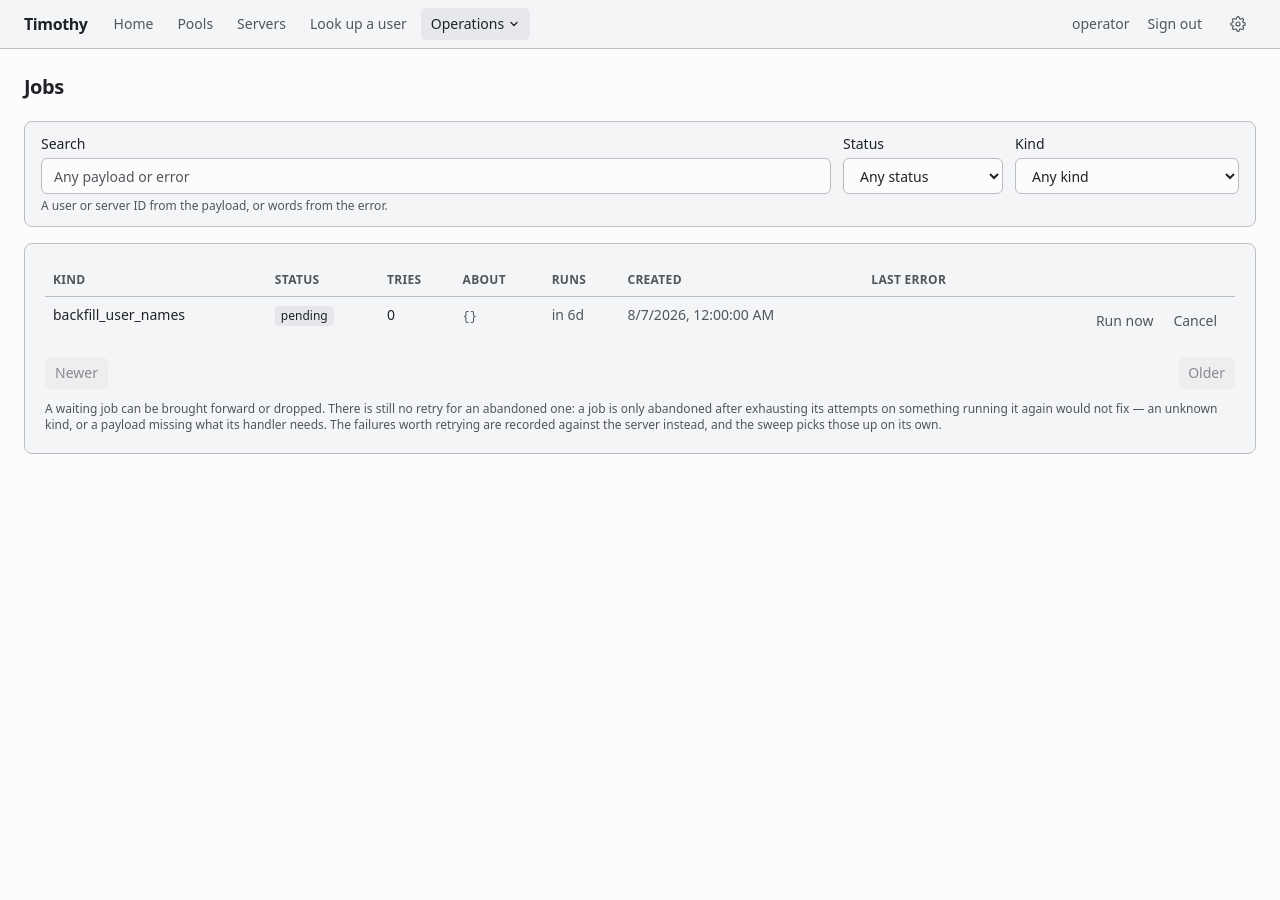
acting on a queued job › asks before dropping one
Click the button "Cancel": (1195, 321) top-left (1163, 305), bottom-right (1227, 337)
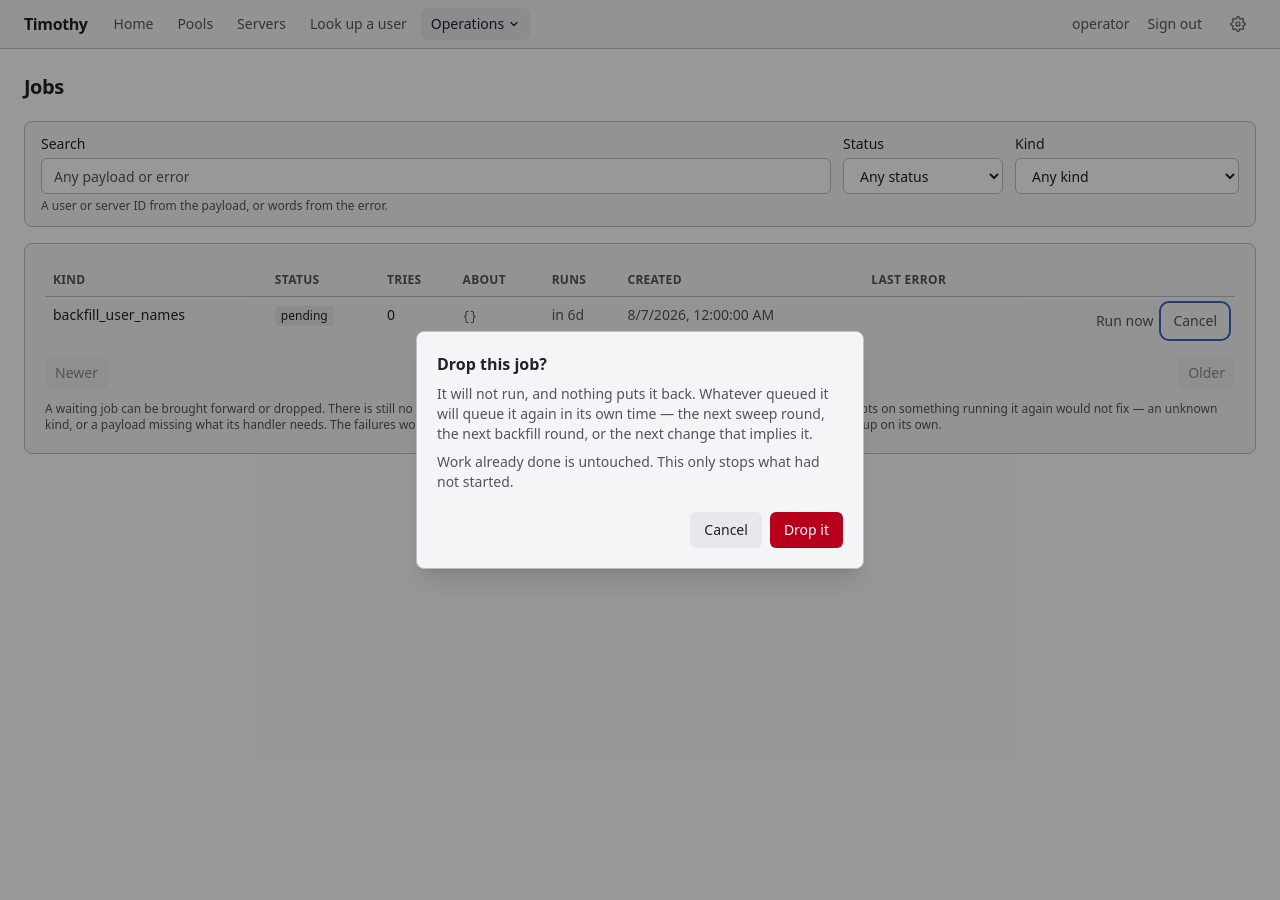
Expected: the dialog shows "nothing puts it back", top-left (437, 384), bottom-right (829, 443)
